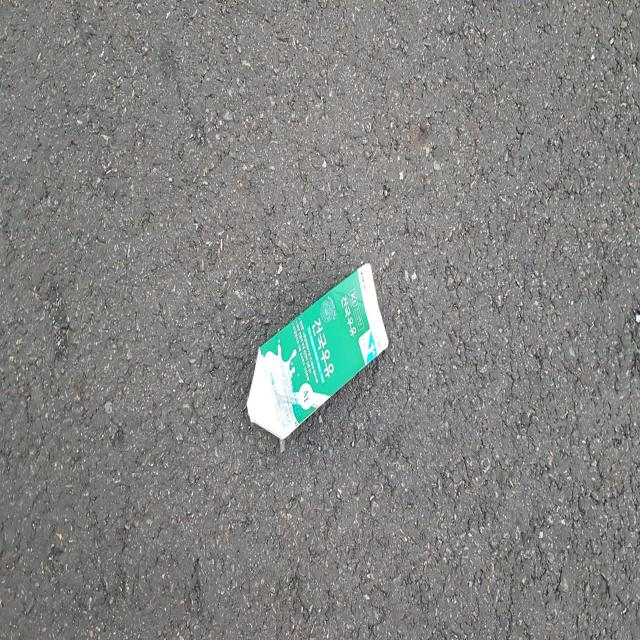paperpack: (247, 263, 389, 440)
